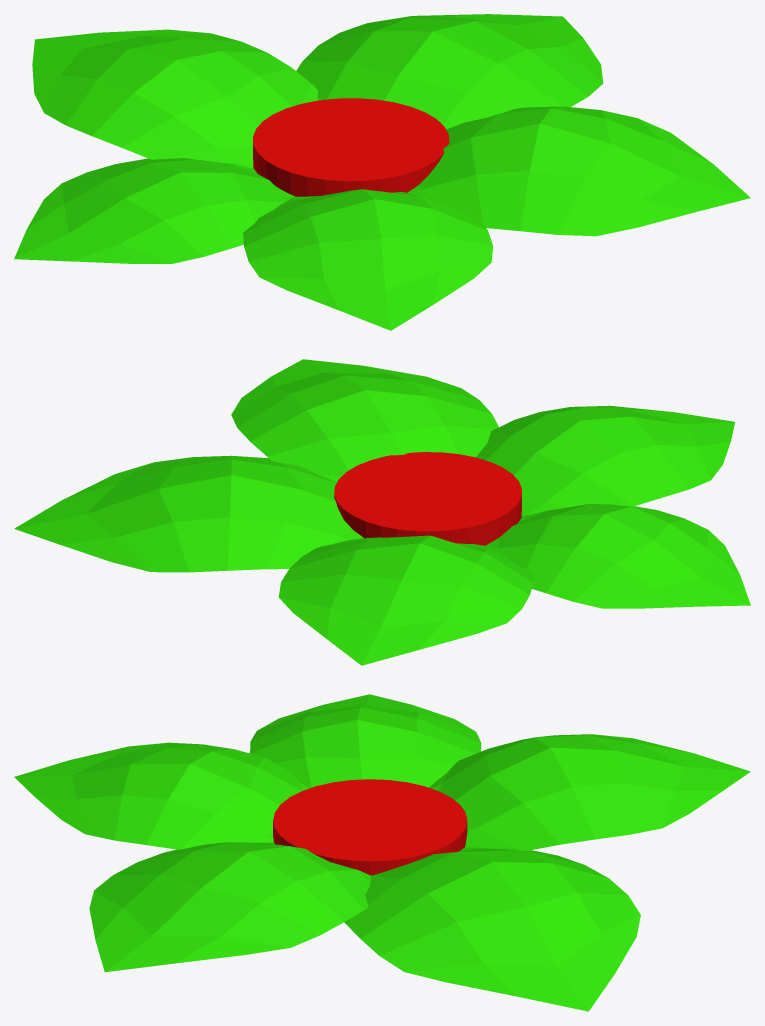
The model's file is Plant.fbx.
3 renders of one model, top to bottom at view 1: azimuth 30°, elevation 25°; view 2: azimuth 150°, elevation 25°; view 3: azimuth 270°, elevation 25°, orthographic. The views are drawn at different scales.
Parts seen in each view (by area): view 1: Plane.002; view 2: Plane.002; view 3: Plane.002.
Part boxes in pixels (x1,y1,x2,y2): Plane.002: [14, 14, 750, 330]; Plane.002: [14, 359, 750, 665]; Plane.002: [14, 694, 750, 1011].
Size of the model in its own units: 68.11 by 6.92 by 66.74.
